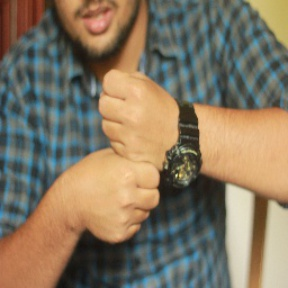G: (84, 65, 176, 248)
